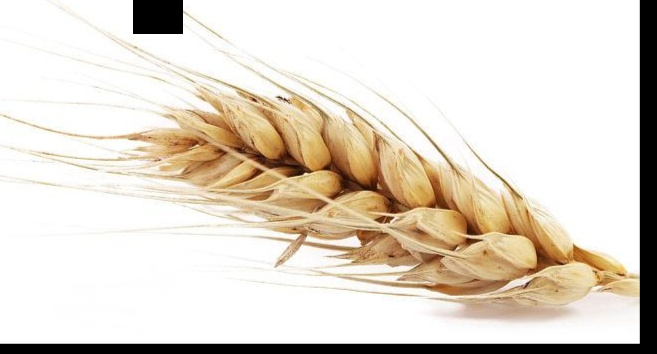wheat: (78, 38, 633, 294)
